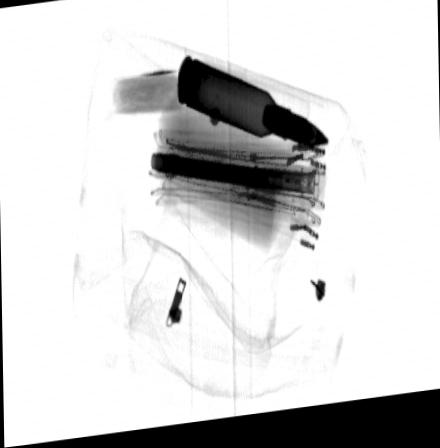Bullet: (174, 58, 330, 157)
